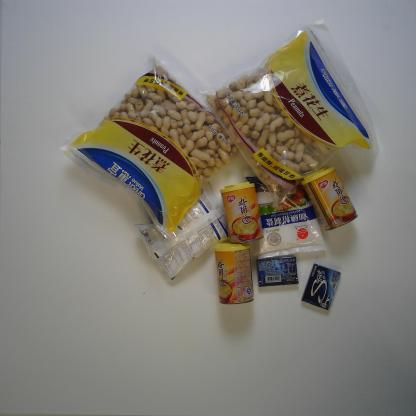Canned Food: (300, 165, 358, 231), (218, 181, 264, 245), (213, 242, 254, 305)
Dried Food: (191, 16, 381, 209), (58, 53, 243, 249)
Gum: (301, 262, 341, 310), (256, 255, 299, 287)
Seasoner: (134, 180, 229, 284), (245, 175, 327, 261)
